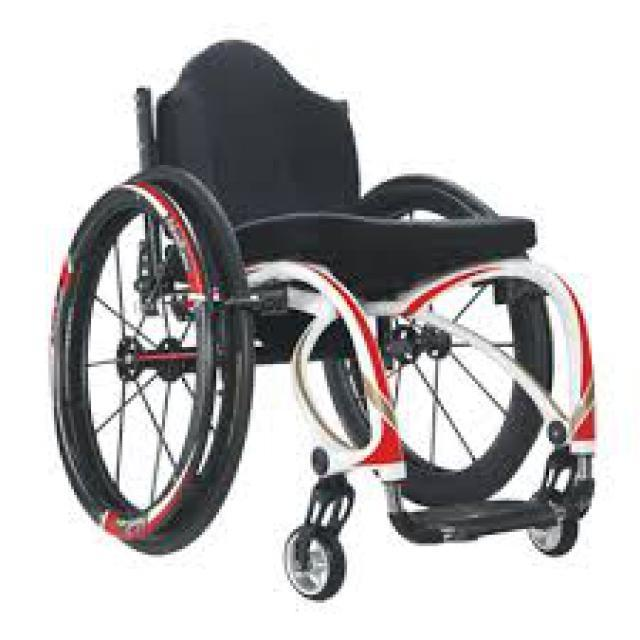wheelchairs: (50, 38, 602, 606)
